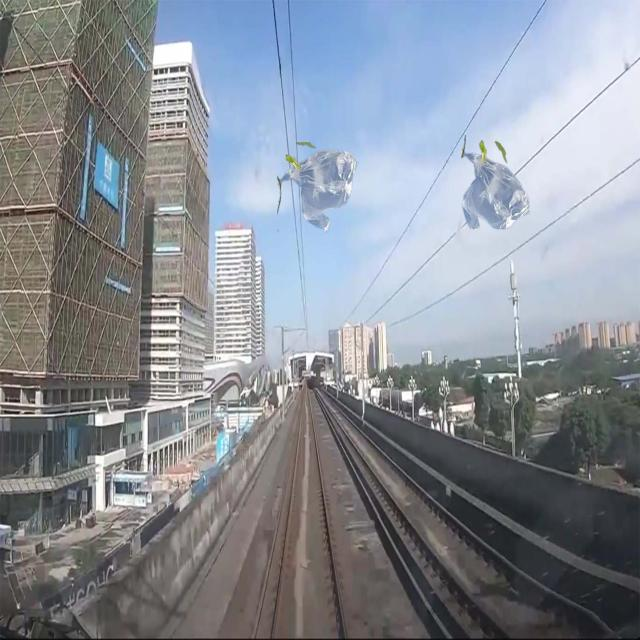plastic bag: (276, 147, 360, 235), (458, 139, 532, 235)
